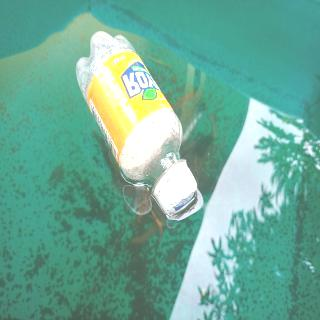bottle: (74, 30, 199, 216)
